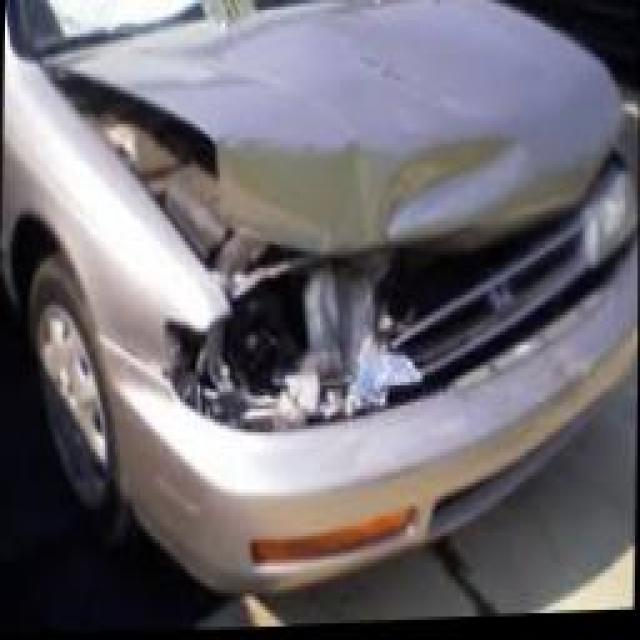Bonnet: (75, 54, 511, 262)
Light: (130, 285, 386, 446)
